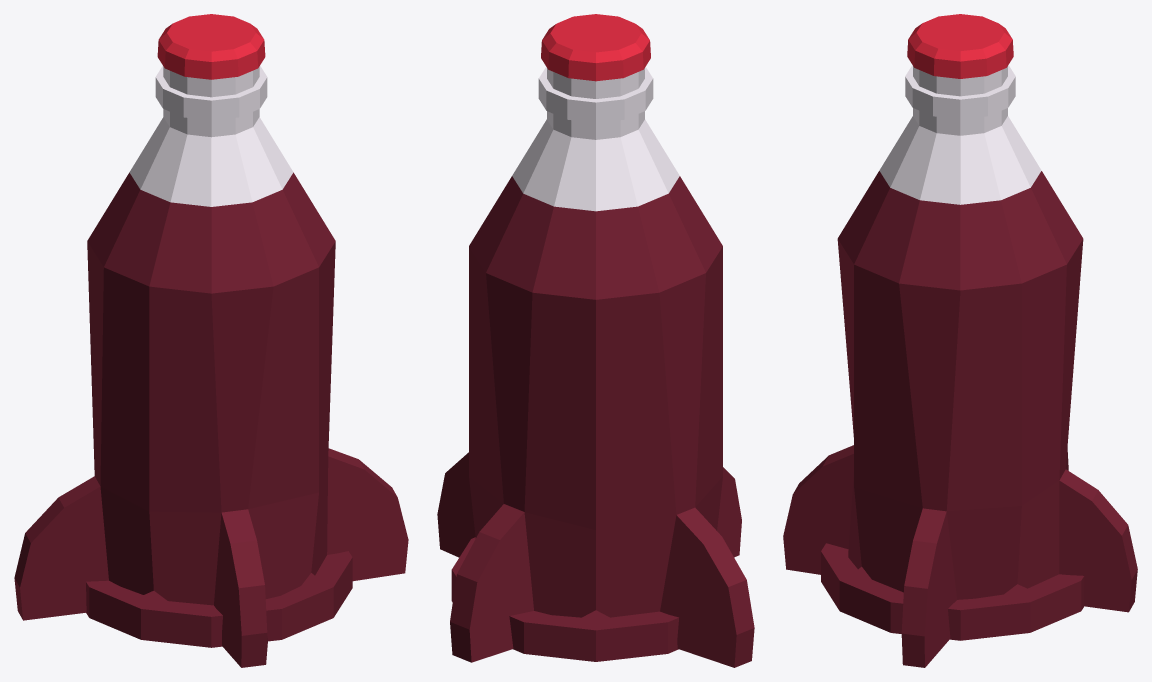
Rendered from cola.glb.
The picture shows the model from 3 angles, left to right: view 1: azimuth 30°, elevation 25°; view 2: azimuth 150°, elevation 25°; view 3: azimuth 270°, elevation 25°; orthographic projection. The views are drawn at different scales.
Visible parts, largest first — view 1: cola; view 2: cola; view 3: cola.
Boxes of the visible parts, x1=… form: cola: x1=14, y1=14, x2=408, y2=667; cola: x1=437, y1=14, x2=754, y2=667; cola: x1=783, y1=14, x2=1137, y2=667.
Bounding box in the file's own units: 0.4986 × 0.7688 × 0.4469.
